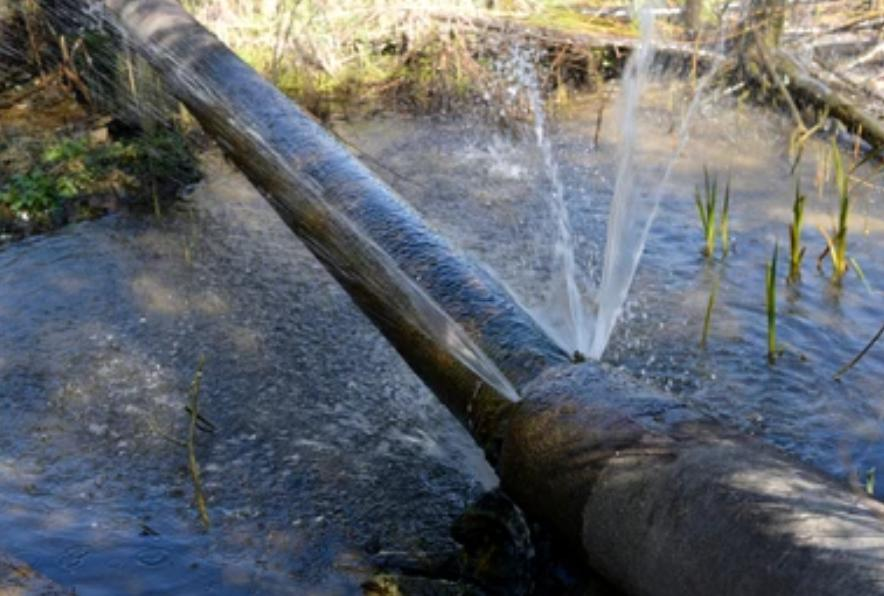pipe burst: (143, 51, 528, 412), (528, 2, 734, 376)
water accumulation: (0, 87, 884, 596)
